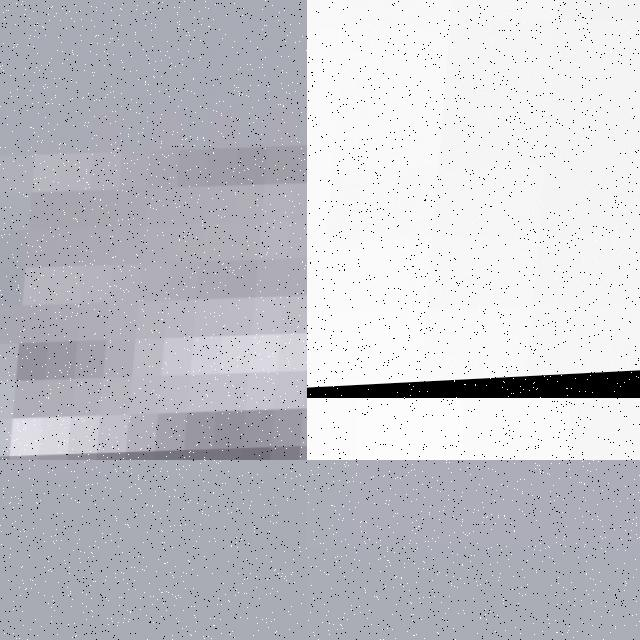0: (0, 0, 307, 460)
drone: (307, 0, 640, 398)
